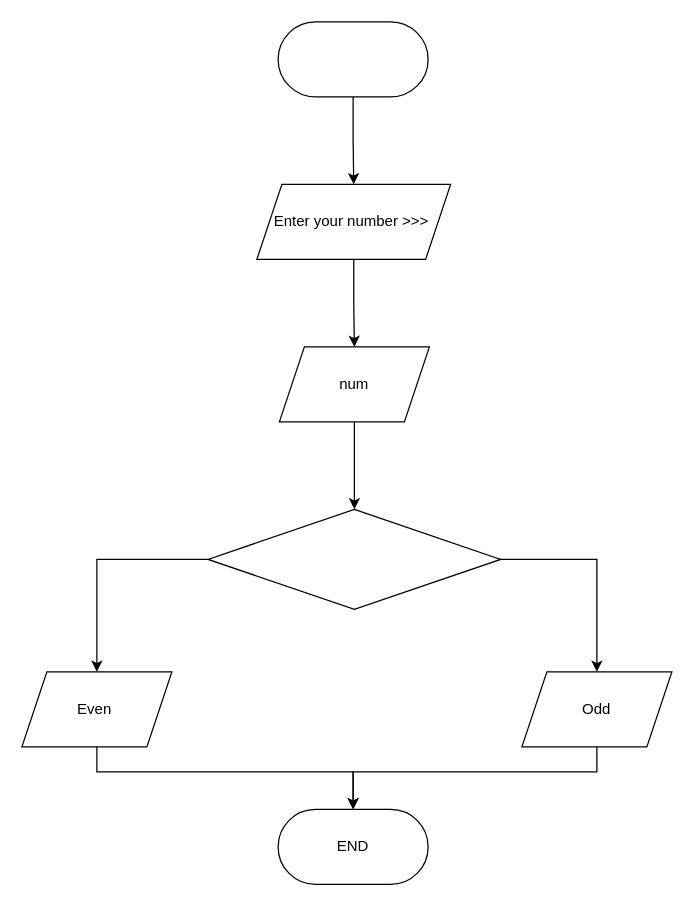
This 694x906 diagram has some shape labels left out. Each missing label, with the centre of its shape:
"Even or Odd" goes at (352,59).
"num % 2 == 0" goes at (354,558).
